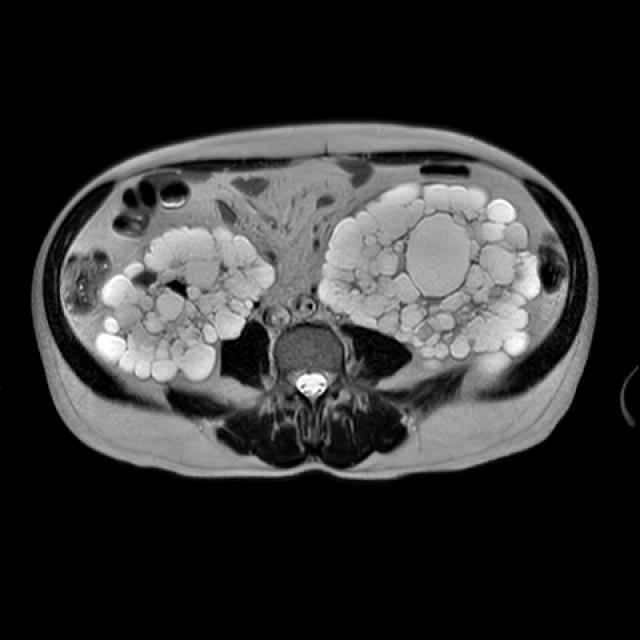sag: (93, 224, 279, 386)
sol: (316, 182, 542, 378)
